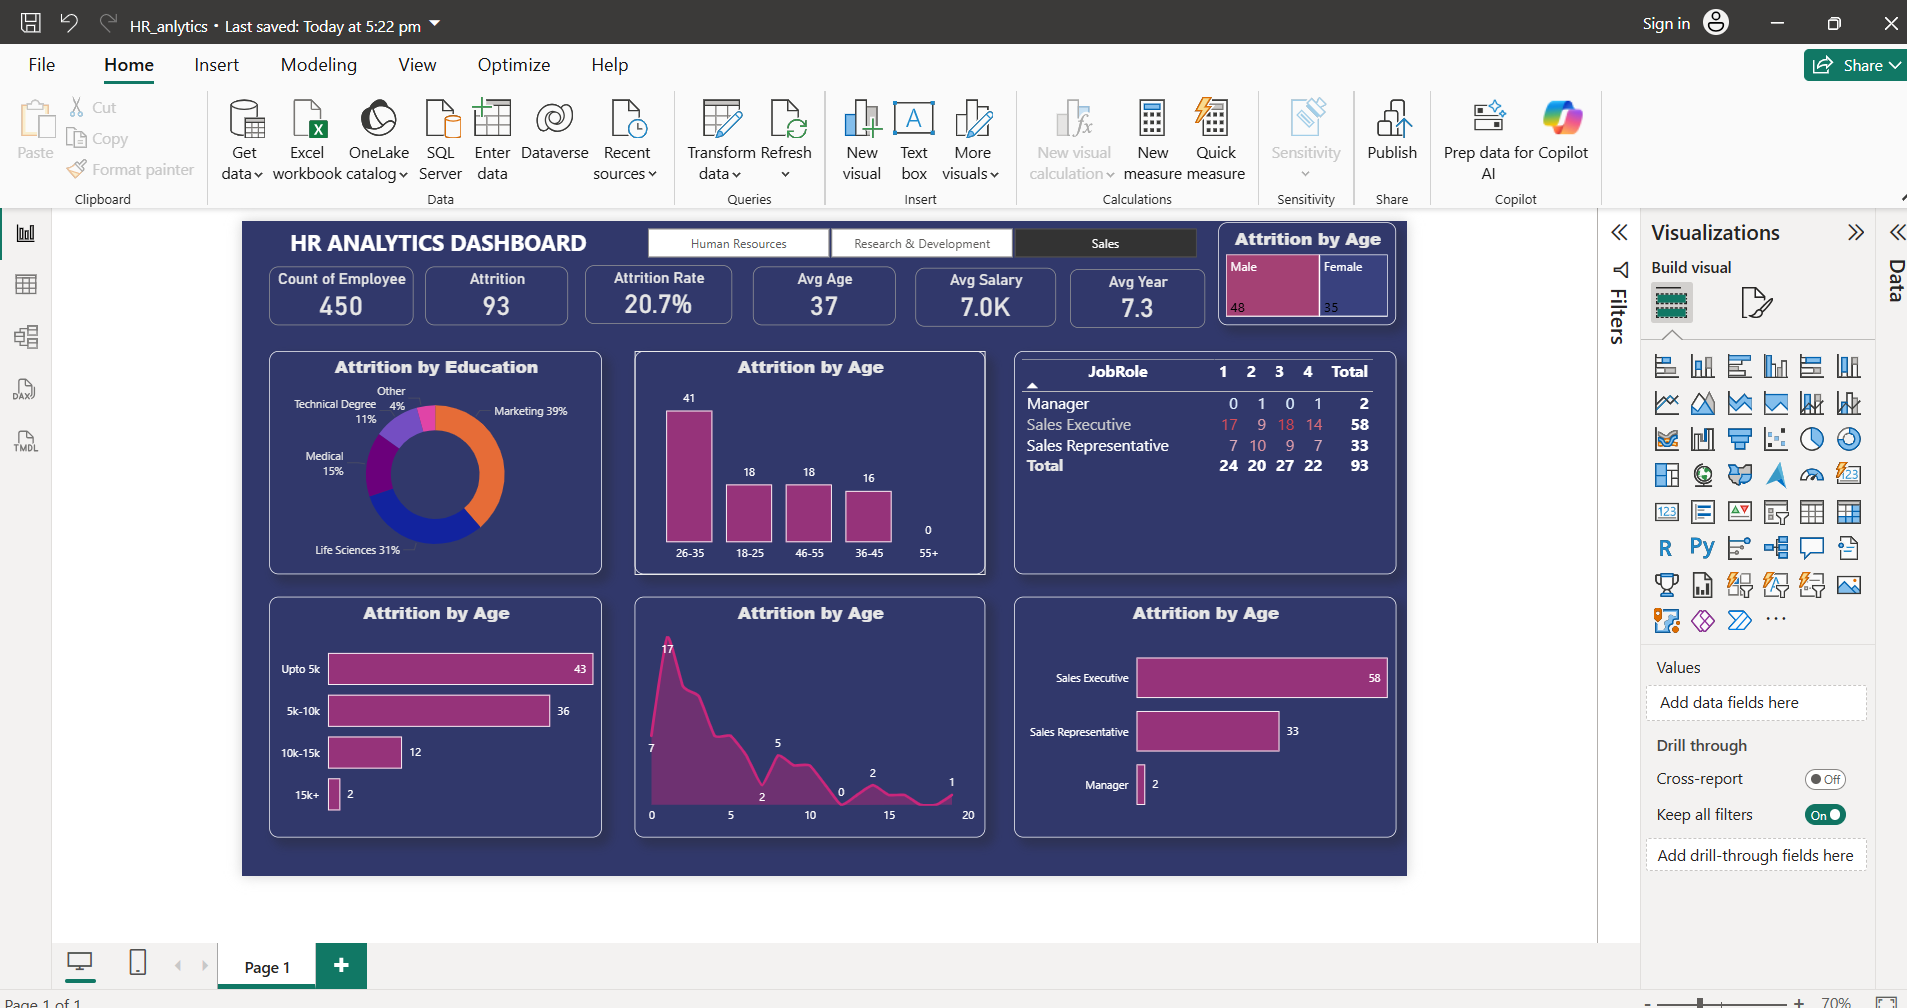

What the dashboard file says about the page in this screenshot:
{"tool":"powerbi","page":{"name":"Page 1","canvas":[1280,720],"ordinal":0},"visuals":[{"type":"card","title":"Count of Employee","fields":{"Values":["CountNonNull(HR_Analytics.EmpID)"]},"box":[30,50,158.6,64.3],"z":0},{"type":"card","title":"Attrition","fields":{"Values":["Sum(HR_Analytics.Attrition_Count)"]},"box":[201.4,50,157.1,64.3],"z":1000},{"type":"card","title":"Attrition Rate","fields":{"Values":["HR_Analytics.AttritionRate"]},"box":[377.1,48.6,161.4,64.3],"z":2000},{"type":"card","title":"Avg Age","fields":{"Values":["Avg(HR_Analytics.Age)"]},"box":[561.4,50,157.1,64.3],"z":3000},{"type":"card","title":"Avg Salary","fields":{"Values":["Avg(HR_Analytics.MonthlyIncome)"]},"box":[740,51.4,154.3,64.3],"z":4000},{"type":"card","title":"Avg Year","fields":{"Values":["Avg(HR_Analytics.YearsAtCompany)"]},"box":[910,52.9,148.6,64.3],"z":5000},{"type":"donutChart","title":"Attrition by Education","fields":{"Category":["HR_Analytics.EducationField"],"Y":["Sum(HR_Analytics.Attrition_Count)"]},"box":[30,142.9,365.7,245.7],"z":6000},{"type":"columnChart","title":"Attrition by Age","fields":{"Category":["HR_Analytics.AgeGroup"],"Y":["Sum(HR_Analytics.Attrition_Count)"]},"box":[431.4,142.9,385.7,245.7],"z":7000},{"type":"pivotTable","fields":{"Rows":["HR_Analytics.JobRole"],"Columns":["HR_Analytics.JobSatisfaction"],"Values":["Sum(HR_Analytics.Attrition_Count)"]},"box":[848.6,142.9,420,245.7],"z":8000},{"type":"clusteredBarChart","title":"Attrition by Age","fields":{"Category":["HR_Analytics.SalarySlab"],"Y":["Sum(HR_Analytics.Attrition_Count)"]},"box":[30,412.9,365.7,264.3],"z":9000},{"type":"clusteredBarChart","title":"Attrition by Age","fields":{"Category":["HR_Analytics.JobRole"],"Y":["Sum(HR_Analytics.Attrition_Count)"]},"box":[848.6,412.9,420,264.3],"z":10000},{"type":"areaChart","title":"Attrition by Age","fields":{"Category":["HR_Analytics.YearsAtCompany"],"Y":["Sum(HR_Analytics.Attrition_Count)"]},"box":[431.4,412.9,385.7,264.3],"z":11000},{"type":"treemap","title":"Attrition by Age","fields":{"Group":["HR_Analytics.Gender"],"Values":["Sum(HR_Analytics.Attrition_Count)"]},"box":[1072.9,1.4,195.7,112.9],"z":12000},{"type":"slicer","fields":{"Values":["HR_Analytics.Department"]},"box":[420,1.4,652.9,45.7],"z":13000},{"type":"textbox","box":[0,1.4,431.4,44.3],"z":14000}]}

Visuals, with their boxes on the page's 1280x720 design canvas (x1, y1, x2, y2). These are canvas units, not pixel positions in the 1907x1008 screenshot, which may show the page scaled, cropped or inside an application window:
"Count of Employee" card: rect(30, 50, 189, 114)
"Attrition" card: rect(201, 50, 358, 114)
"Attrition Rate" card: rect(377, 49, 538, 113)
"Avg Age" card: rect(561, 50, 718, 114)
"Avg Salary" card: rect(740, 51, 894, 116)
"Avg Year" card: rect(910, 53, 1059, 117)
"Attrition by Education" donutChart: rect(30, 143, 396, 389)
"Attrition by Age" columnChart: rect(431, 143, 817, 389)
pivotTable - HR_Analytics.JobRole x HR_Analytics.JobSatisfaction: rect(849, 143, 1269, 389)
"Attrition by Age" clusteredBarChart: rect(30, 413, 396, 677)
"Attrition by Age" clusteredBarChart: rect(849, 413, 1269, 677)
"Attrition by Age" areaChart: rect(431, 413, 817, 677)
"Attrition by Age" treemap: rect(1073, 1, 1269, 114)
slicer - HR_Analytics.Department: rect(420, 1, 1073, 47)
textbox: rect(0, 1, 431, 46)
